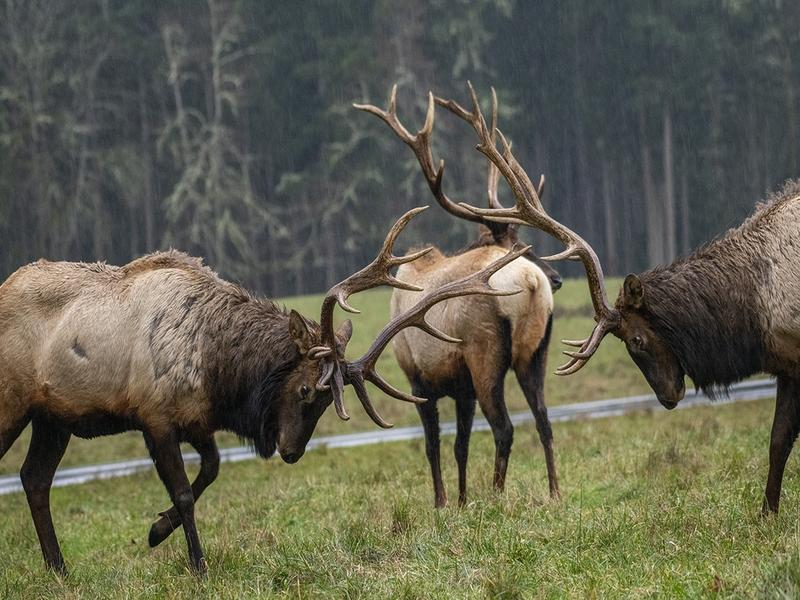elk: (1, 211, 458, 600), (512, 150, 800, 527), (375, 137, 557, 509)
